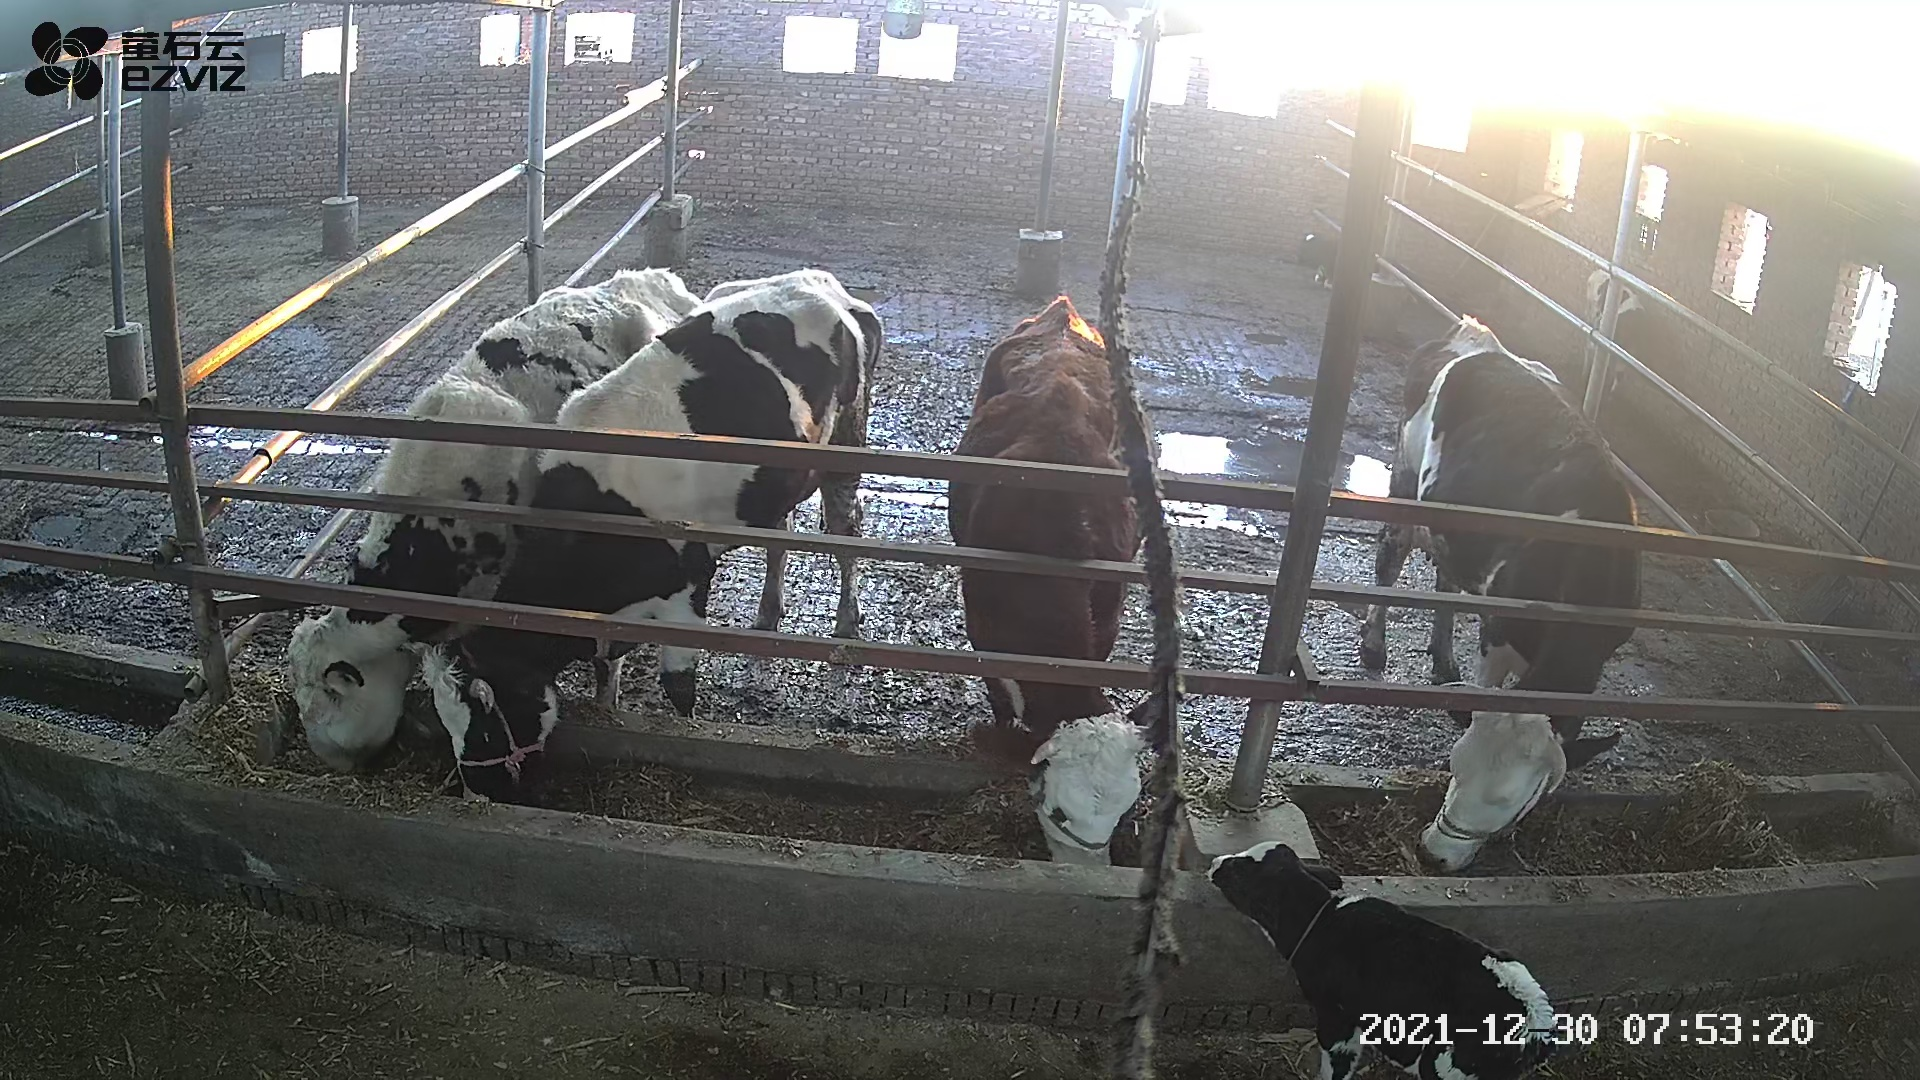cow: (398, 266, 884, 806), (284, 265, 702, 778), (1357, 311, 1639, 876), (944, 295, 1158, 866)
